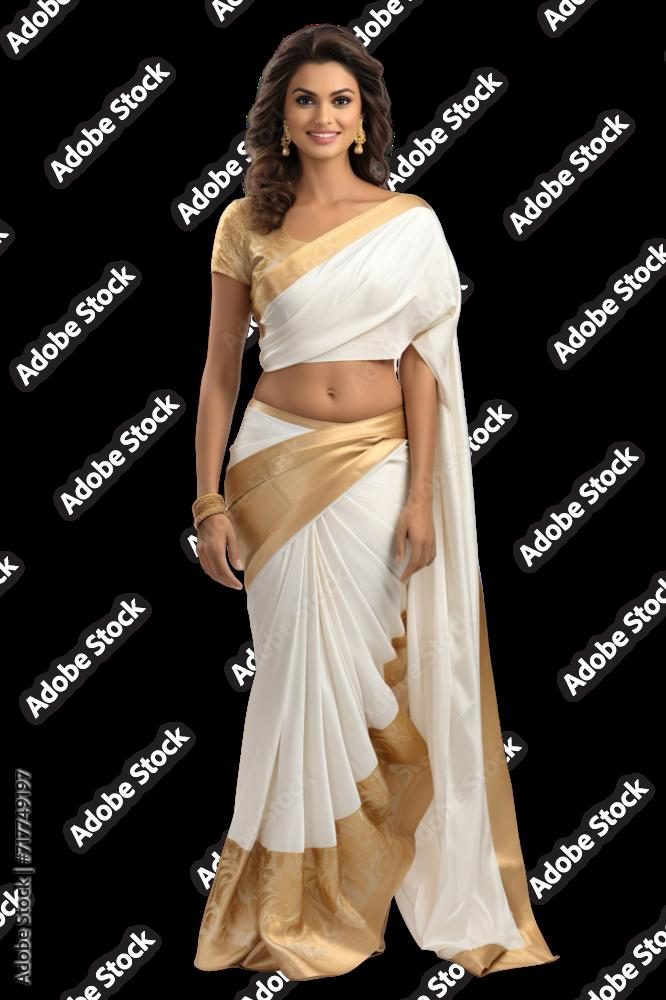Human: (168, 24, 536, 1000)
